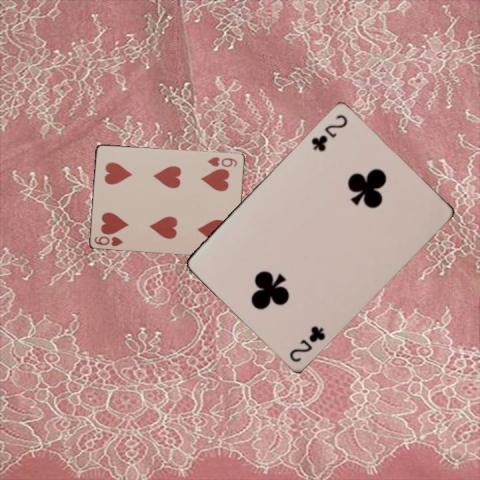2c: (308, 110, 349, 153), (286, 322, 327, 363)
6h: (91, 234, 125, 248), (205, 154, 238, 168)
